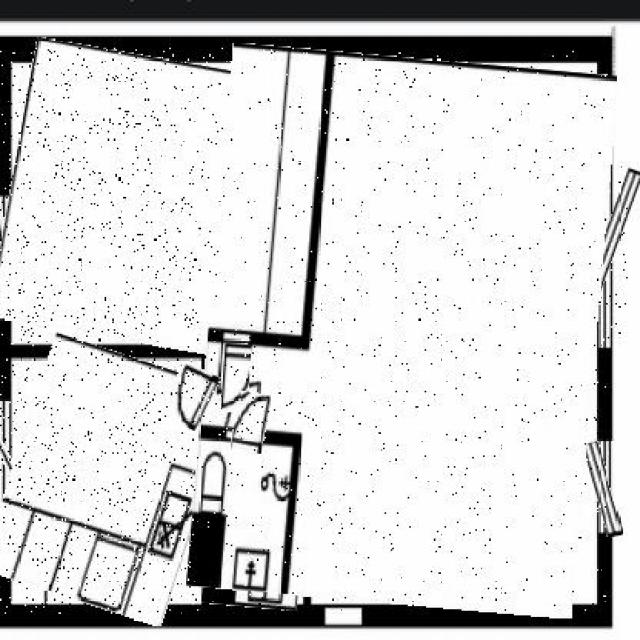door: (199, 51, 606, 611), (0, 48, 311, 354), (0, 343, 217, 614), (206, 452, 308, 610)
window: (164, 365, 213, 429), (234, 392, 268, 454), (222, 345, 250, 412)
zone: (582, 166, 628, 346), (591, 440, 618, 537), (0, 398, 20, 512), (0, 195, 14, 317)
